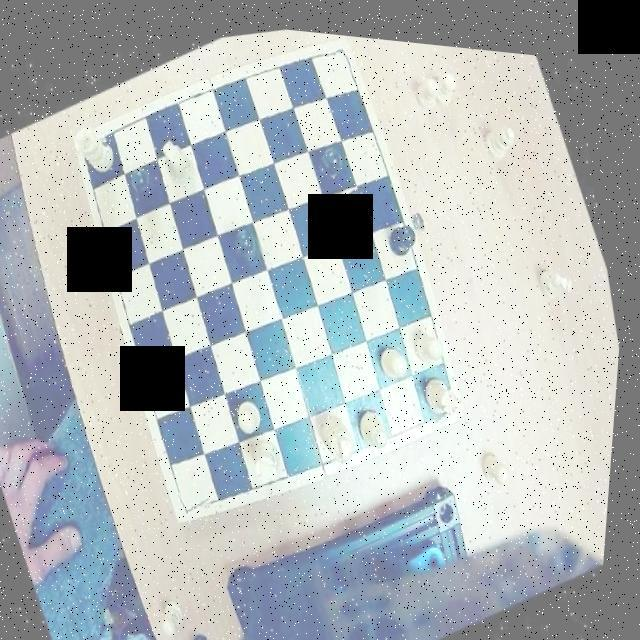chess-table-corners: (176, 468, 223, 520), (428, 372, 475, 422), (72, 122, 118, 170), (320, 30, 356, 70)
